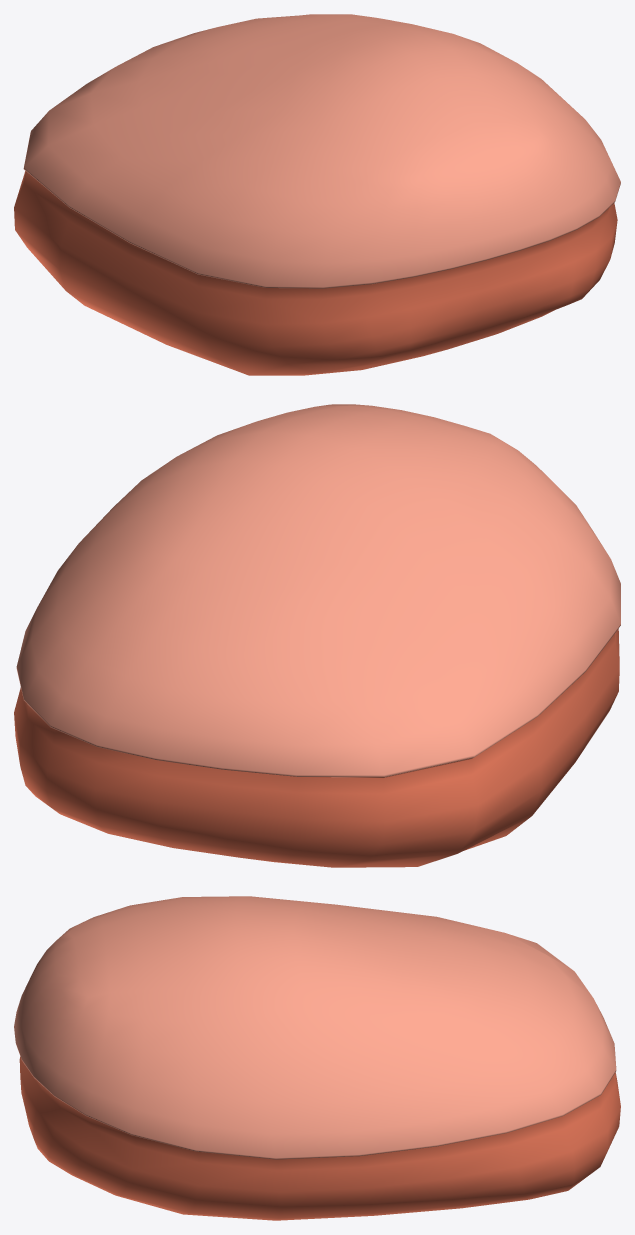
Rendered from Pork.fbx.
3 views of the same model, one above another, from view 1: azimuth 30°, elevation 25°; view 2: azimuth 150°, elevation 25°; view 3: azimuth 270°, elevation 25° (orthographic). The views are drawn at different scales.
Visible parts, largest first — view 1: Pork; view 2: Pork; view 3: Pork.
Boxes of the visible parts, <box> form: Pork: <box>14,14,620,375</box>; Pork: <box>14,404,620,867</box>; Pork: <box>14,896,620,1220</box>.
Bounding box in the file's own units: 13.95 × 7.46 × 15.87.
